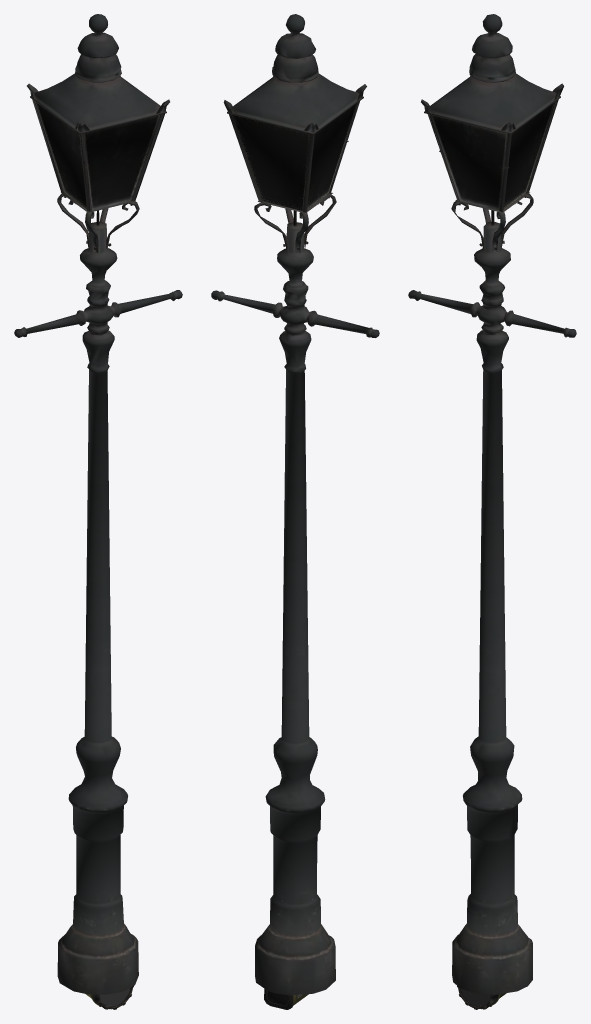
Rendered from terra.glb.
The picture shows the model from 3 angles, left to right: view 1: azimuth 30°, elevation 25°; view 2: azimuth 150°, elevation 25°; view 3: azimuth 330°, elevation 25°; orthographic projection.
Parts seen in each view (by area): view 1: street_lamp_01, portable_searchlight; view 2: street_lamp_01, portable_searchlight; view 3: street_lamp_01, portable_searchlight.
Part boxes in pixels (x1=…): street_lamp_01: x1=14, y1=14, x2=182, y2=994; portable_searchlight: x1=86, y1=986, x2=133, y2=1009; street_lamp_01: x1=211, y1=14, x2=379, y2=995; portable_searchlight: x1=264, y1=988, x2=308, y2=1009; street_lamp_01: x1=408, y1=14, x2=576, y2=994; portable_searchlight: x1=457, y1=984, x2=506, y2=1009.
Size of the model in its own units: 0.702 by 3.95 by 0.386.
Materials: 4 (4 with a texture image).
